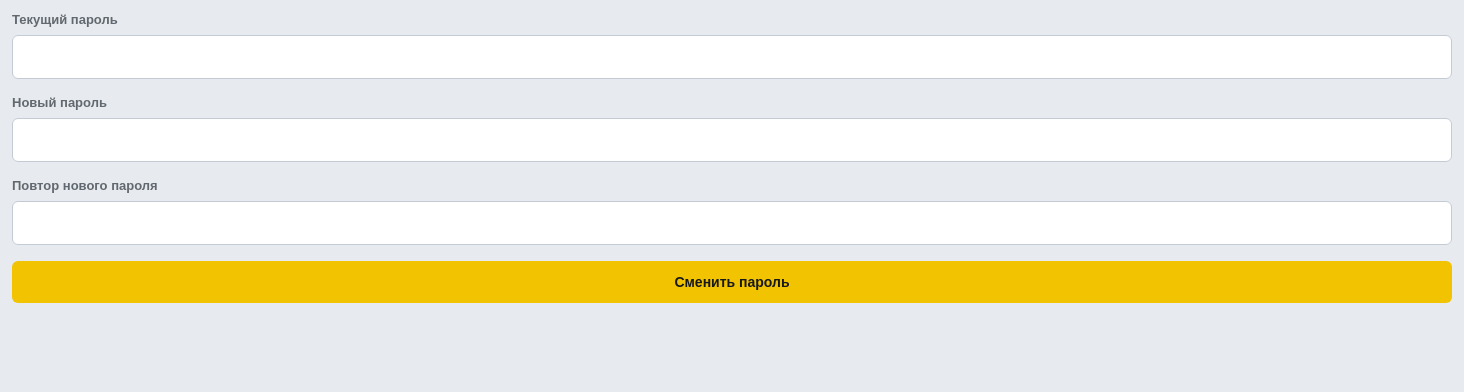
it: PasswordForm › does not submit when new password and repeat do not match
Type "old-password" into the password field labelled "Текущий пароль" at (732, 57), box [12, 35, 1452, 79]
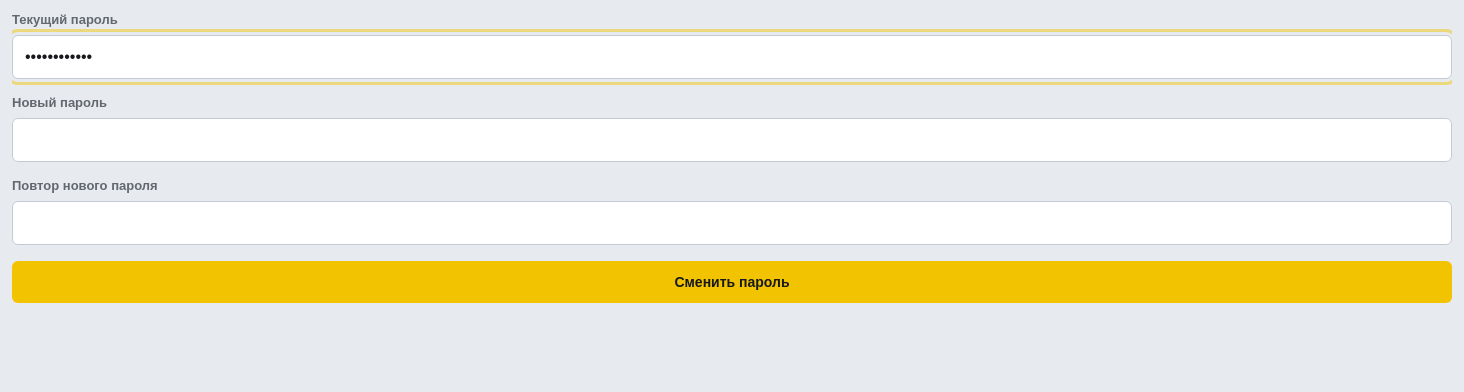
Type "new-password" into the password field labelled "Новый пароль" at (732, 140), box [12, 118, 1452, 162]
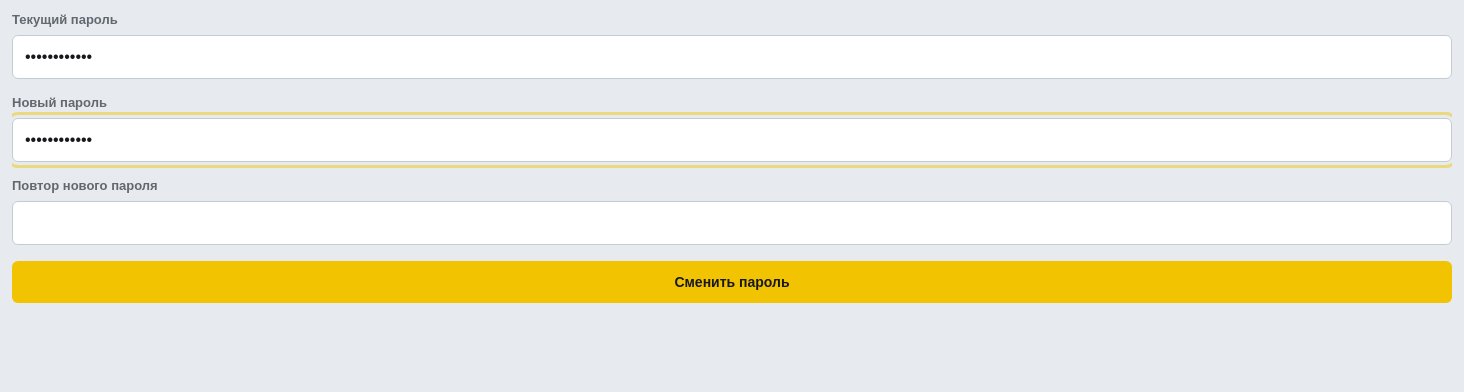
Type "different-password" into the password field labelled "Повтор нового пароля" at (732, 223), box [12, 201, 1452, 245]
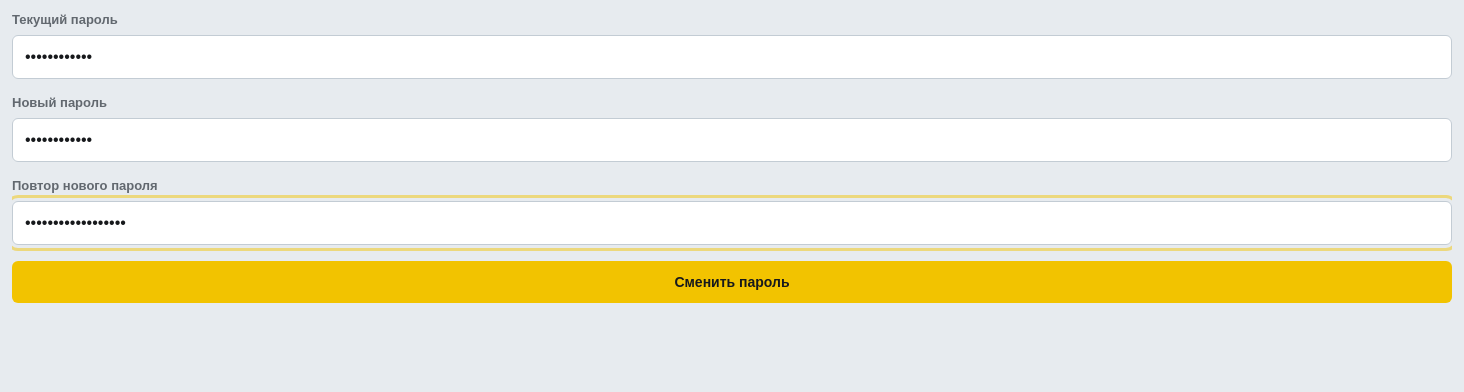
Click the button "Сменить пароль" at (732, 282), box [12, 261, 1452, 303]
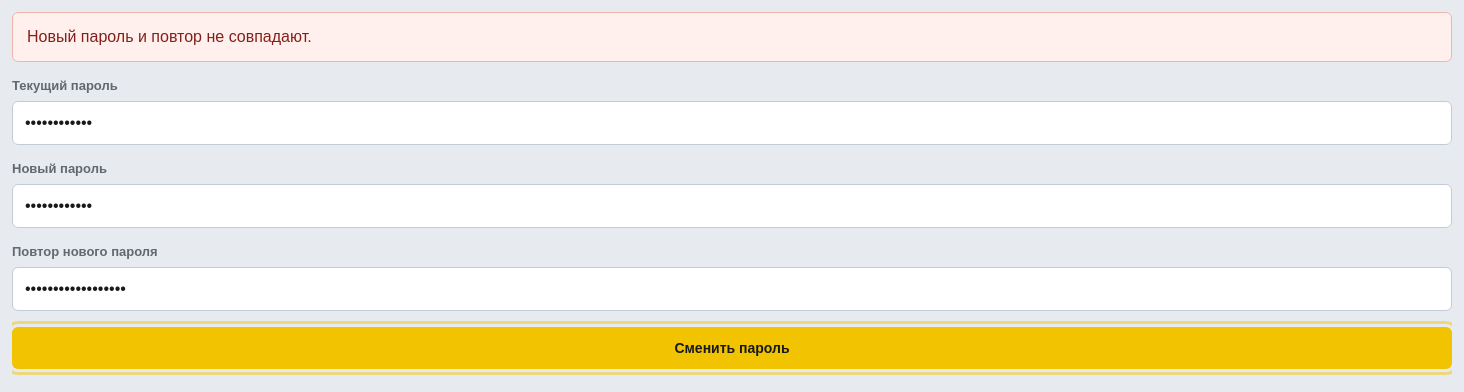
Expected: the message reads "Новый пароль и повтор не совпадают.", [27, 28, 312, 45]
